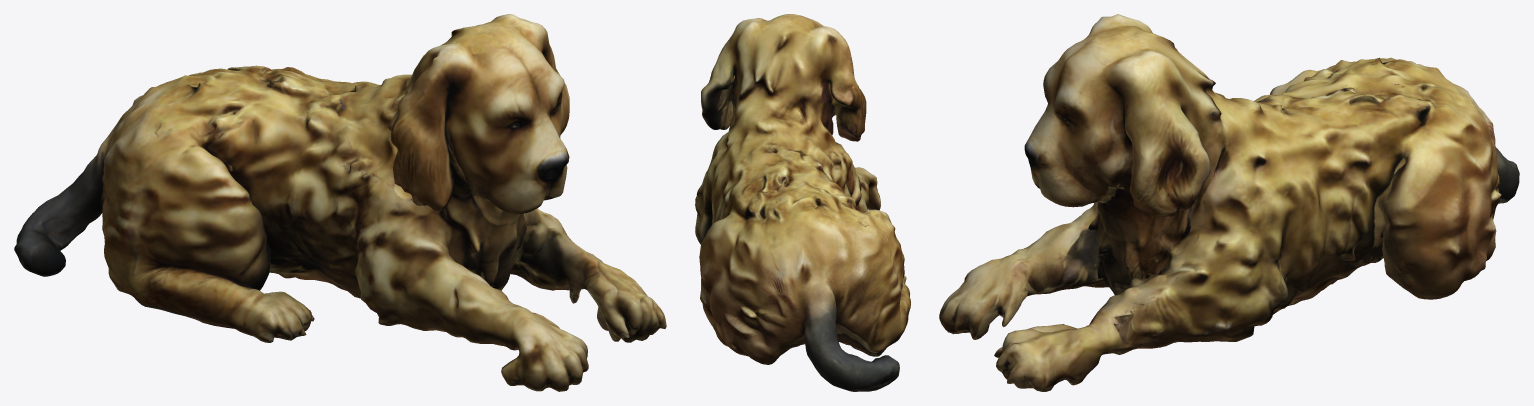
The model's file is Golden_Puppy_with_4_p_1113032826.fbx.
3 renders of one model, left to right at view 1: azimuth 30°, elevation 25°; view 2: azimuth 150°, elevation 25°; view 3: azimuth 270°, elevation 25°, orthographic. The views are drawn at different scales.
Parts seen in each view (by area): view 1: Mesh_0; view 2: Mesh_0; view 3: Mesh_0.
Boxes of the visible parts, x1,y1,x2,y2 form: Mesh_0: (14, 14, 666, 391); Mesh_0: (695, 14, 910, 391); Mesh_0: (939, 14, 1519, 391).
Size of the model in its own units: 176 by 114 by 200.
1 material, 1 textured.
